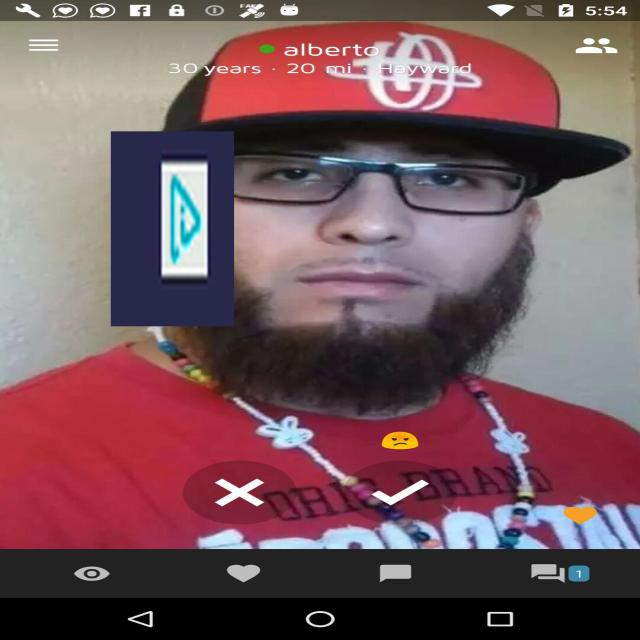sneaking: (111, 132, 234, 326)
